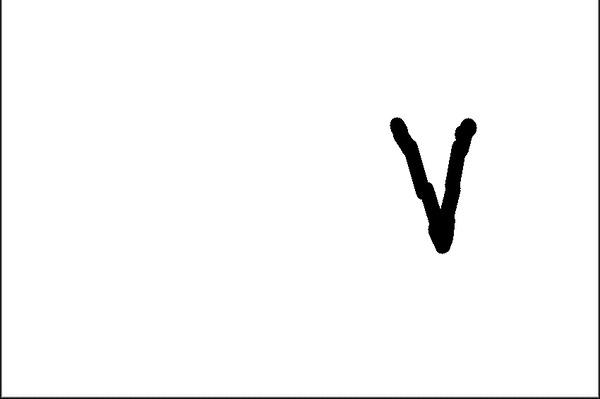V: (380, 107, 486, 262)
